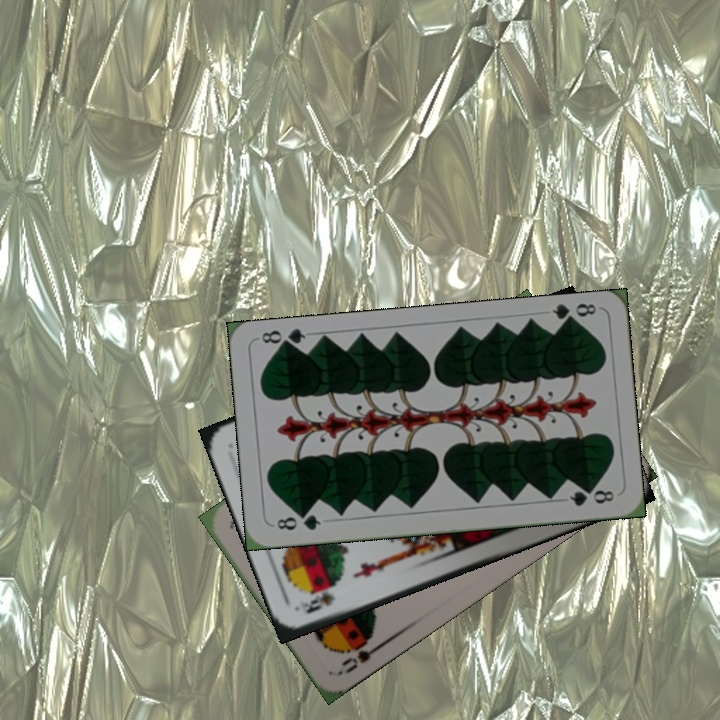G8: (548, 299, 599, 328), (272, 509, 324, 533)
SK: (295, 587, 338, 617)
SO: (336, 631, 388, 677)
